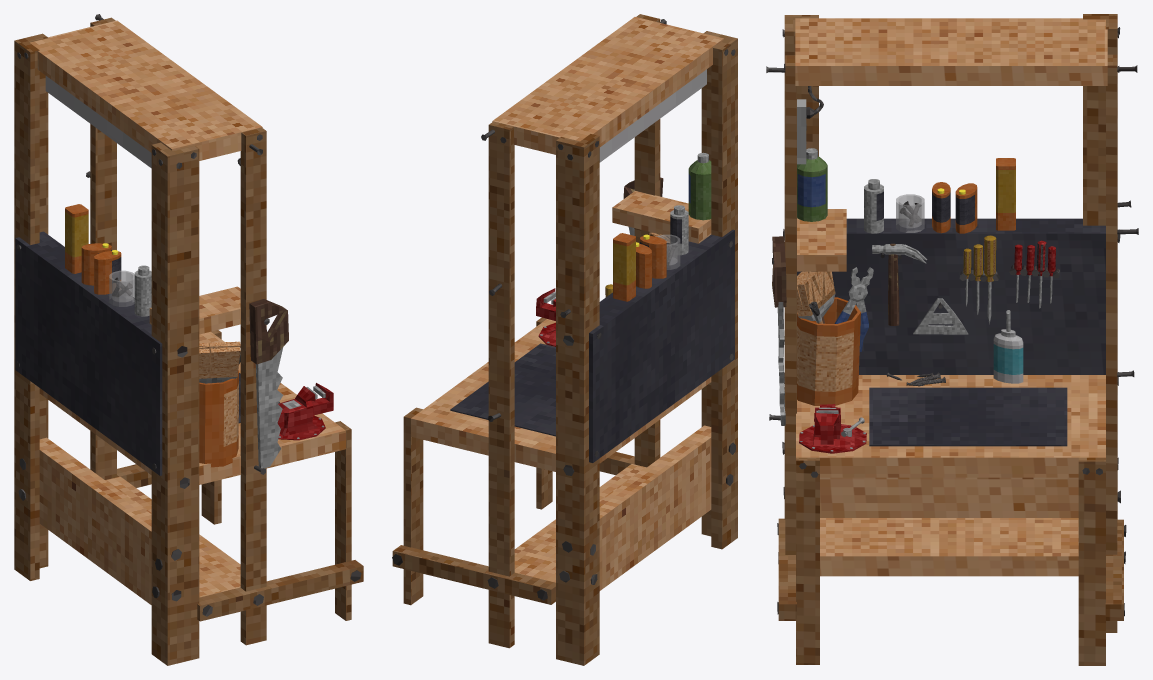
File: workbench_.fbx
3 views of the same model, side by side, from view 1: azimuth 30°, elevation 25°; view 2: azimuth 150°, elevation 25°; view 3: azimuth 270°, elevation 25° (orthographic). The views are drawn at different scales.
Visible parts, largest first — view 1: Bench, Hand Saw, group1673330486.103, Vice Clamp, Paint Brush, group348818362, group1677974325, group1115598653, group931417814, group1903879849; view 2: Bench, group348818362, group1416475030, Vice Clamp, group931417814, group1677974325, group1903879849, group1115598653; view 3: Bench, group1673330486.103, Vice Clamp, group1416475030, Hand Saw, Glue, Paint Brush, group348818362, group634296461, group1673330486.063, Pliers, group1115598653 (+4 smaller).
Boxes of the visible parts, x1,y1,x2,y2 form: Bench: (14, 14, 363, 665); Hand Saw: (249, 299, 288, 468); group1673330486.103: (199, 370, 238, 467); Vice Clamp: (277, 383, 333, 440); Paint Brush: (199, 341, 240, 383); group348818362: (65, 204, 88, 273); group1677974325: (94, 251, 121, 294); group1115598653: (109, 270, 134, 306); group931417814: (134, 265, 151, 316); group1903879849: (81, 243, 111, 285); Bench: (392, 14, 737, 665); group348818362: (613, 233, 635, 301); group1416475030: (688, 152, 711, 220); Vice Clamp: (536, 288, 555, 346); group931417814: (670, 205, 688, 255); group1677974325: (640, 236, 666, 278); group1903879849: (636, 244, 651, 288); group1115598653: (657, 234, 680, 269); Bench: (766, 14, 1138, 665); group1673330486.103: (797, 297, 860, 405); Vice Clamp: (799, 404, 866, 453); group1416475030: (797, 148, 827, 221); Hand Saw: (772, 236, 786, 425); Glue: (993, 310, 1023, 383); Paint Brush: (797, 271, 835, 323); group348818362: (996, 158, 1015, 230); group634296461: (872, 243, 927, 325); group1673330486.063: (913, 298, 968, 334); Pliers: (834, 267, 873, 351); group1115598653: (896, 194, 924, 232).
Bounding box in the file's own units: 81.38 × 207 × 123.
